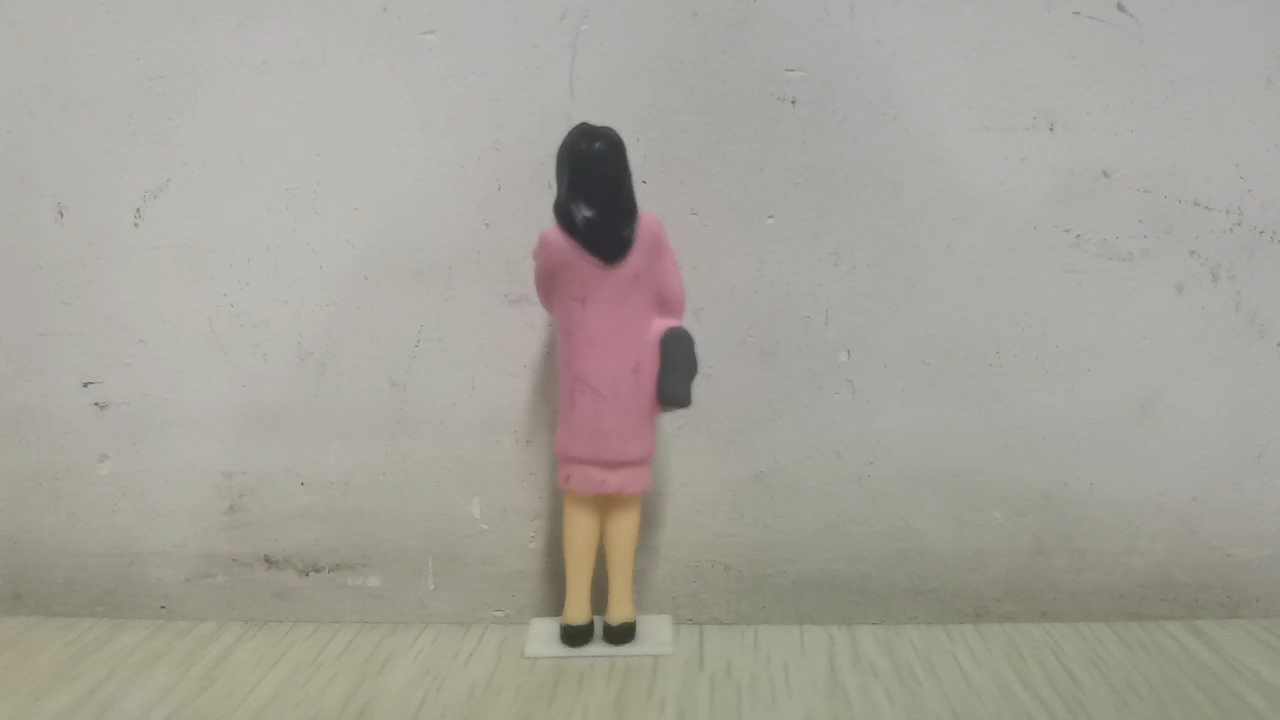person: (529, 120, 699, 649)
